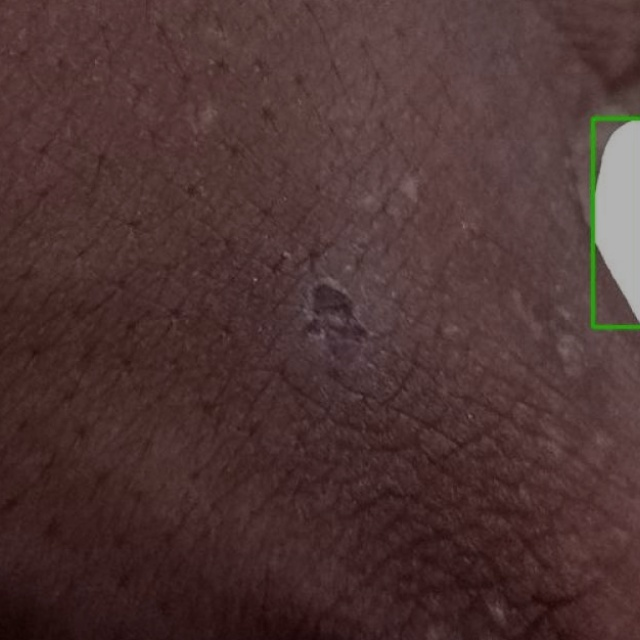Scabies: (593, 118, 639, 326)
